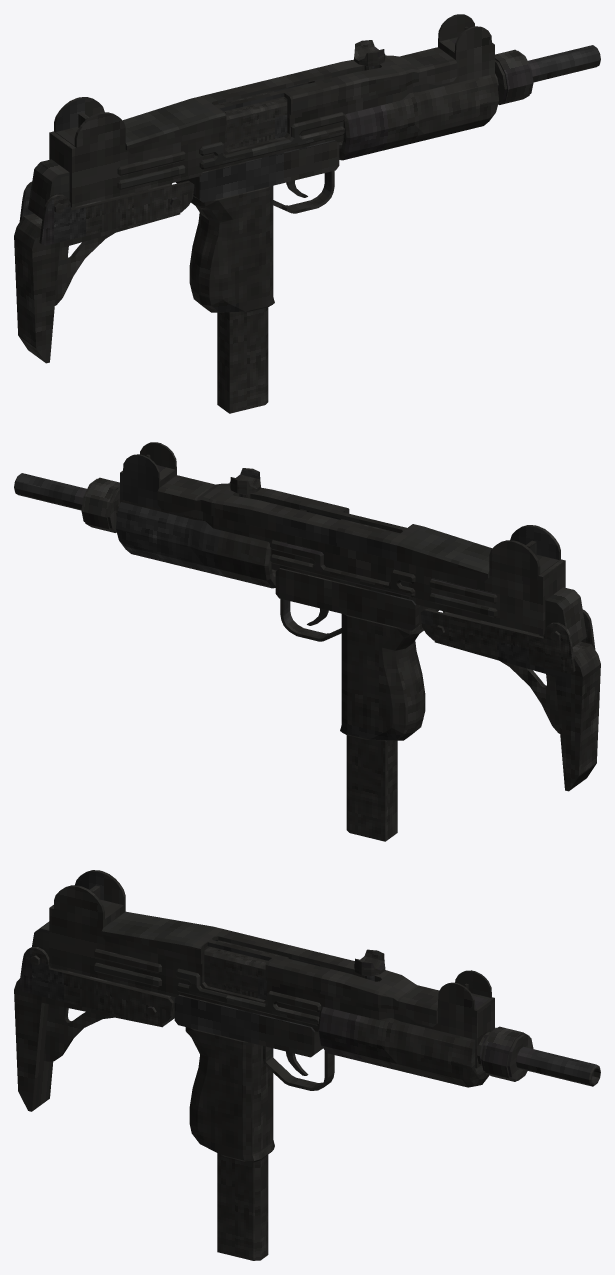
Rendered from shop-item-1077.glb.
The picture shows the model from 3 angles, top to bottom: view 1: azimuth 30°, elevation 25°; view 2: azimuth 150°, elevation 25°; view 3: azimuth 330°, elevation 25°; orthographic projection.
Parts seen in each view (by area): view 1: Uzi, Stock, Magazin, Bolt; view 2: Uzi, Stock, Magazin, Bolt; view 3: Uzi, Stock, Magazin, Bolt.
Part boxes in pixels (x1,y1,x2,y2): Uzi: (28,14,600,312); Stock: (14,181,194,363); Magazin: (217,307,268,413); Bolt: (215,40,385,150); Uzi: (14,442,586,740); Stock: (420,609,600,791); Magazin: (346,735,397,841); Bolt: (229,468,399,533); Uzi: (32,870,600,1162); Stock: (14,947,175,1111); Magazin: (217,1153,268,1260); Bolt: (204,940,385,1000).
Bounding box in the file's own units: 7.33 × 4.11 × 0.6959.
Materials: 1 (1 with a texture image).
